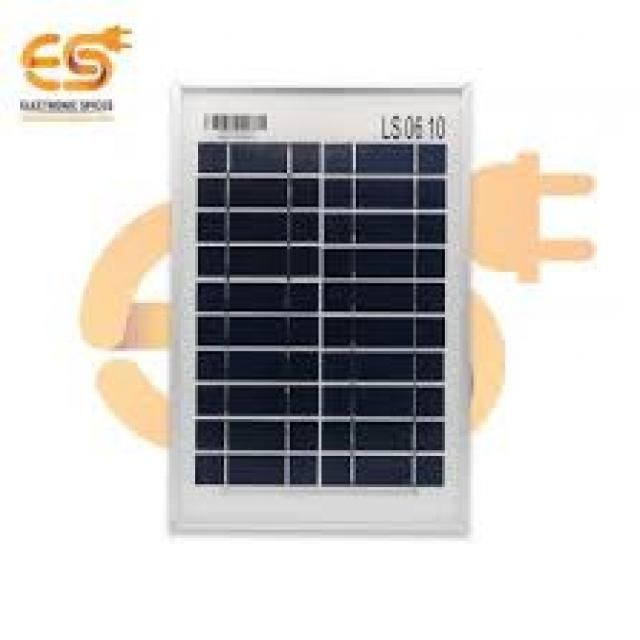no faulty: (201, 110, 456, 493)
